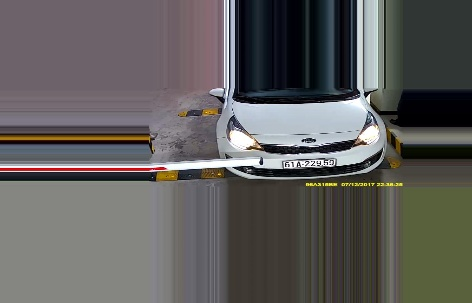plate: (280, 157, 334, 170)
